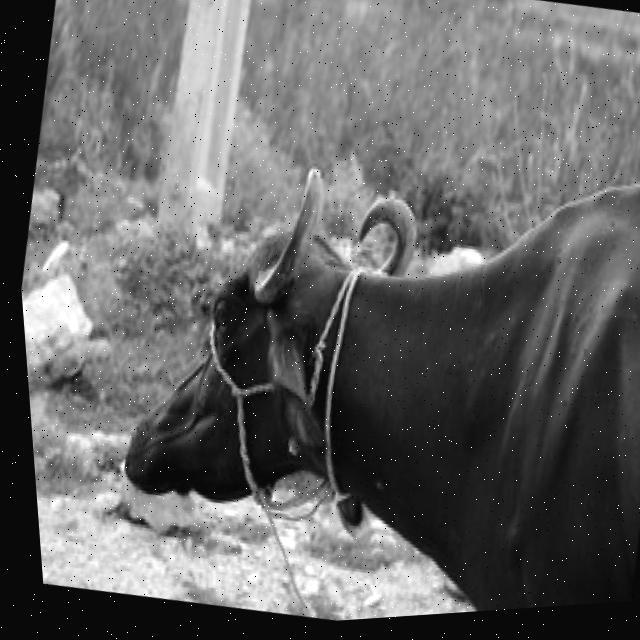Buffalo: (71, 80, 640, 636)
